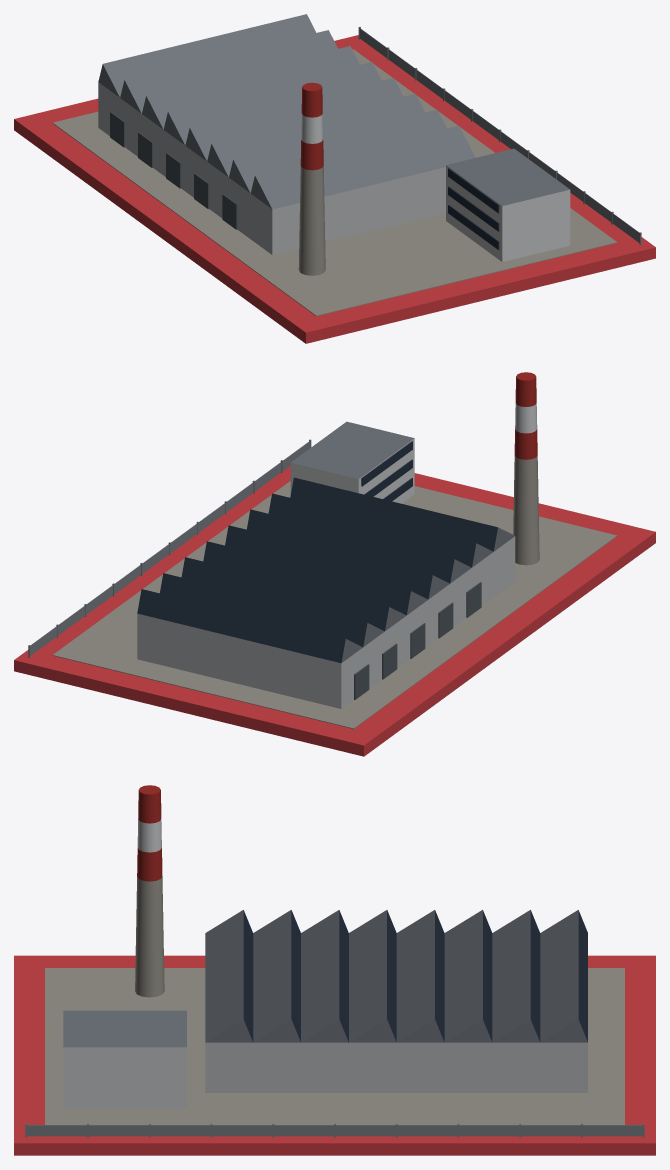
File: arms_company_red.glb
The picture shows the model from 3 angles, top to bottom: view 1: azimuth 30°, elevation 25°; view 2: azimuth 150°, elevation 25°; view 3: azimuth 270°, elevation 25°; orthographic projection. The views are drawn at different scales.
Parts seen in each view (by area): view 1: arms_company_red; view 2: arms_company_red; view 3: arms_company_red.
Boxes of the visible parts, x1,y1,x2,y2 form: arms_company_red: (14,14,655,343); arms_company_red: (14,372,655,756); arms_company_red: (14,785,655,1155).
Size of the model in its own units: 72 by 38.35 by 104.
